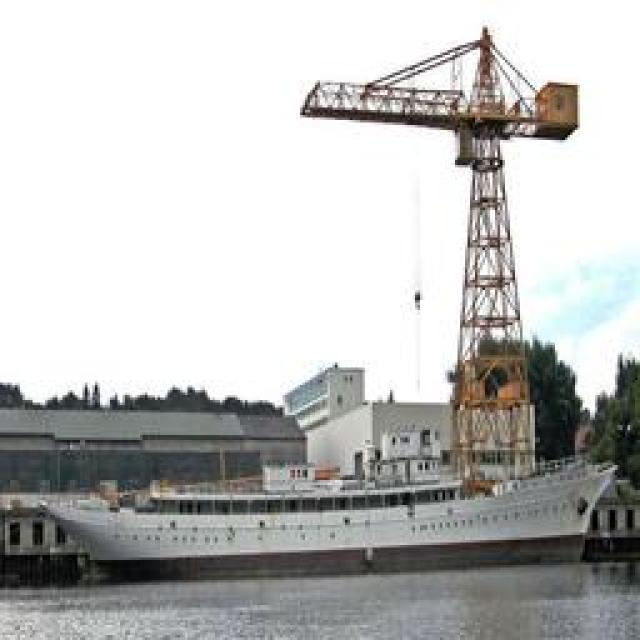CIV_Ship: (49, 451, 614, 574)
